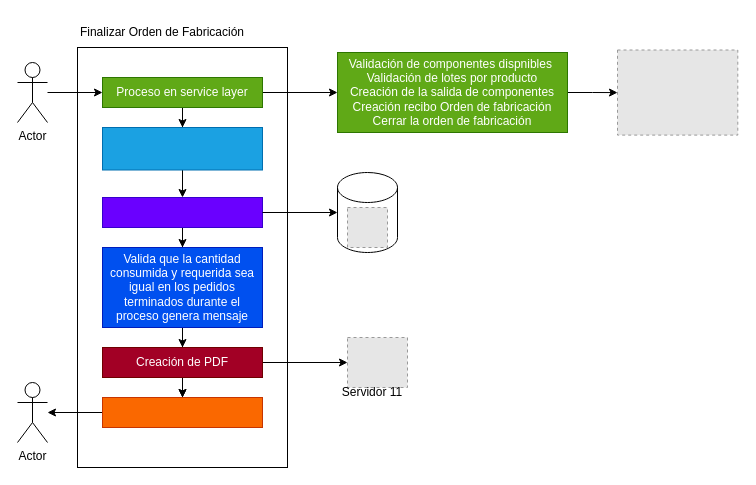
Image size: 756x485. Some labels were removed from this diagram. Grey dashed boxes stand in for pictures. The shapes that lost their labels are listed below. From the top down, each one's centre as x and y in pixels, then its label:
point (182, 148): Proceso para obtener las ordenes con error genera mensaje
point (182, 212): Actualización BD local (UserOrders )
point (182, 412): Obtención de mensajes para informar al usuario
